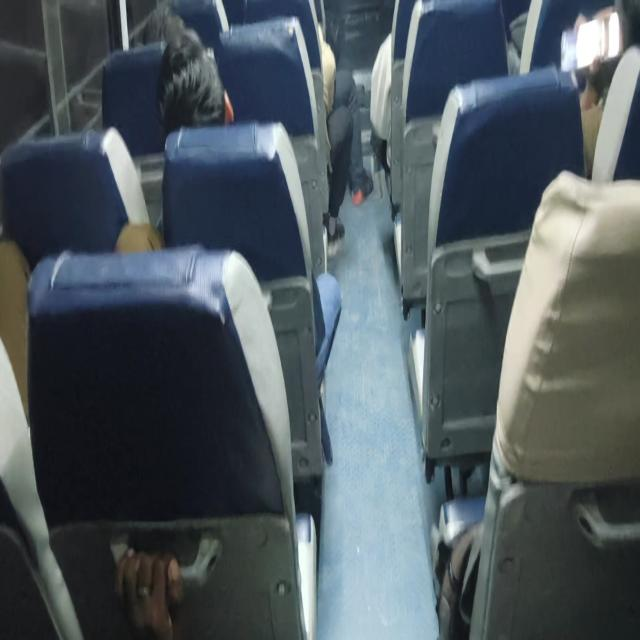person: (116, 25, 342, 462), (244, 1, 374, 257), (115, 26, 234, 253), (317, 28, 373, 257), (573, 0, 639, 178), (156, 26, 234, 133), (114, 546, 184, 638)
